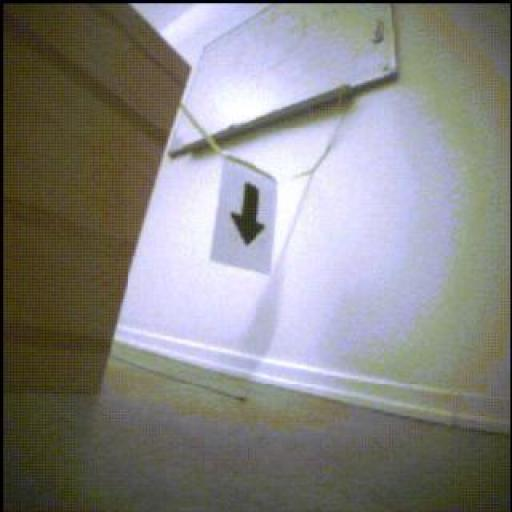arrow: (233, 183, 265, 246)
